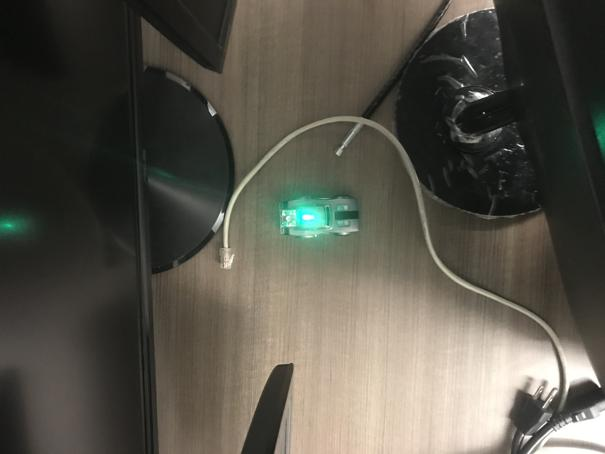Charger: (278, 194, 362, 240)
